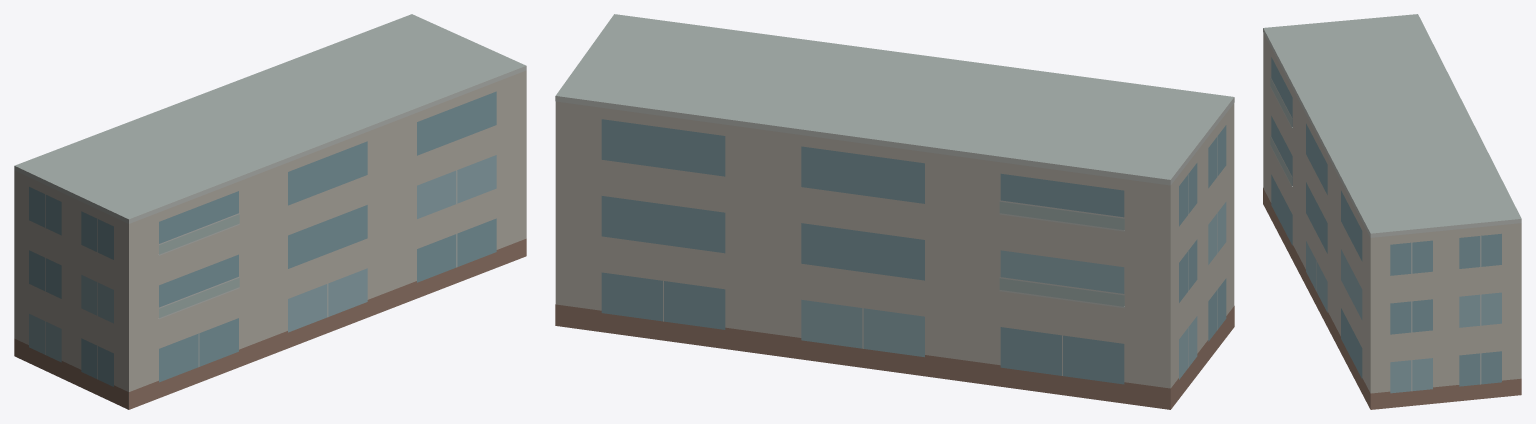
The model's file is survey-upis-32539461.glb.
The picture shows the model from 3 angles, left to right: view 1: azimuth 30°, elevation 25°; view 2: azimuth 150°, elevation 25°; view 3: azimuth 270°, elevation 25°; orthographic projection. The views are drawn at different scales.
Visible parts, largest first — view 1: survey-upis-32539461.tmp; view 2: survey-upis-32539461.tmp; view 3: survey-upis-32539461.tmp.
Part boxes in pixels (box(x1,y1,x2,y2)): survey-upis-32539461.tmp: box(14, 14, 526, 409); survey-upis-32539461.tmp: box(555, 14, 1234, 409); survey-upis-32539461.tmp: box(1263, 14, 1521, 409).
Size of the model in its own units: 27 by 10.1 by 13.44.
